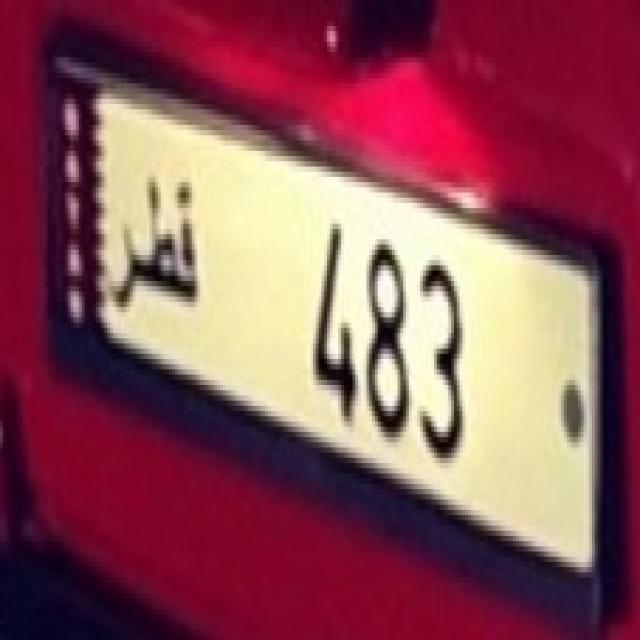licenseplate: (39, 46, 611, 586)
